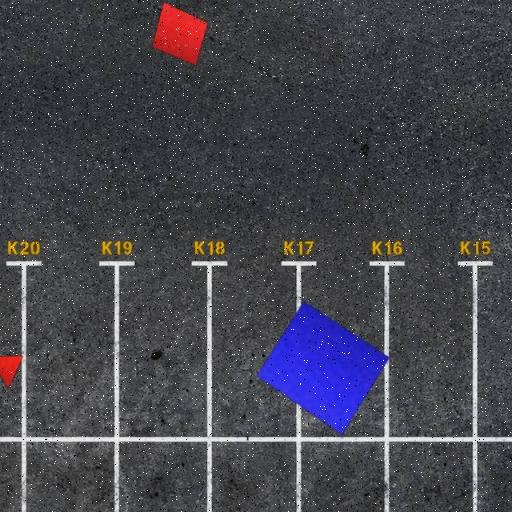BLUE_SQUARE: (256, 301, 390, 436)
RED_SQUARE: (151, 2, 209, 66)
